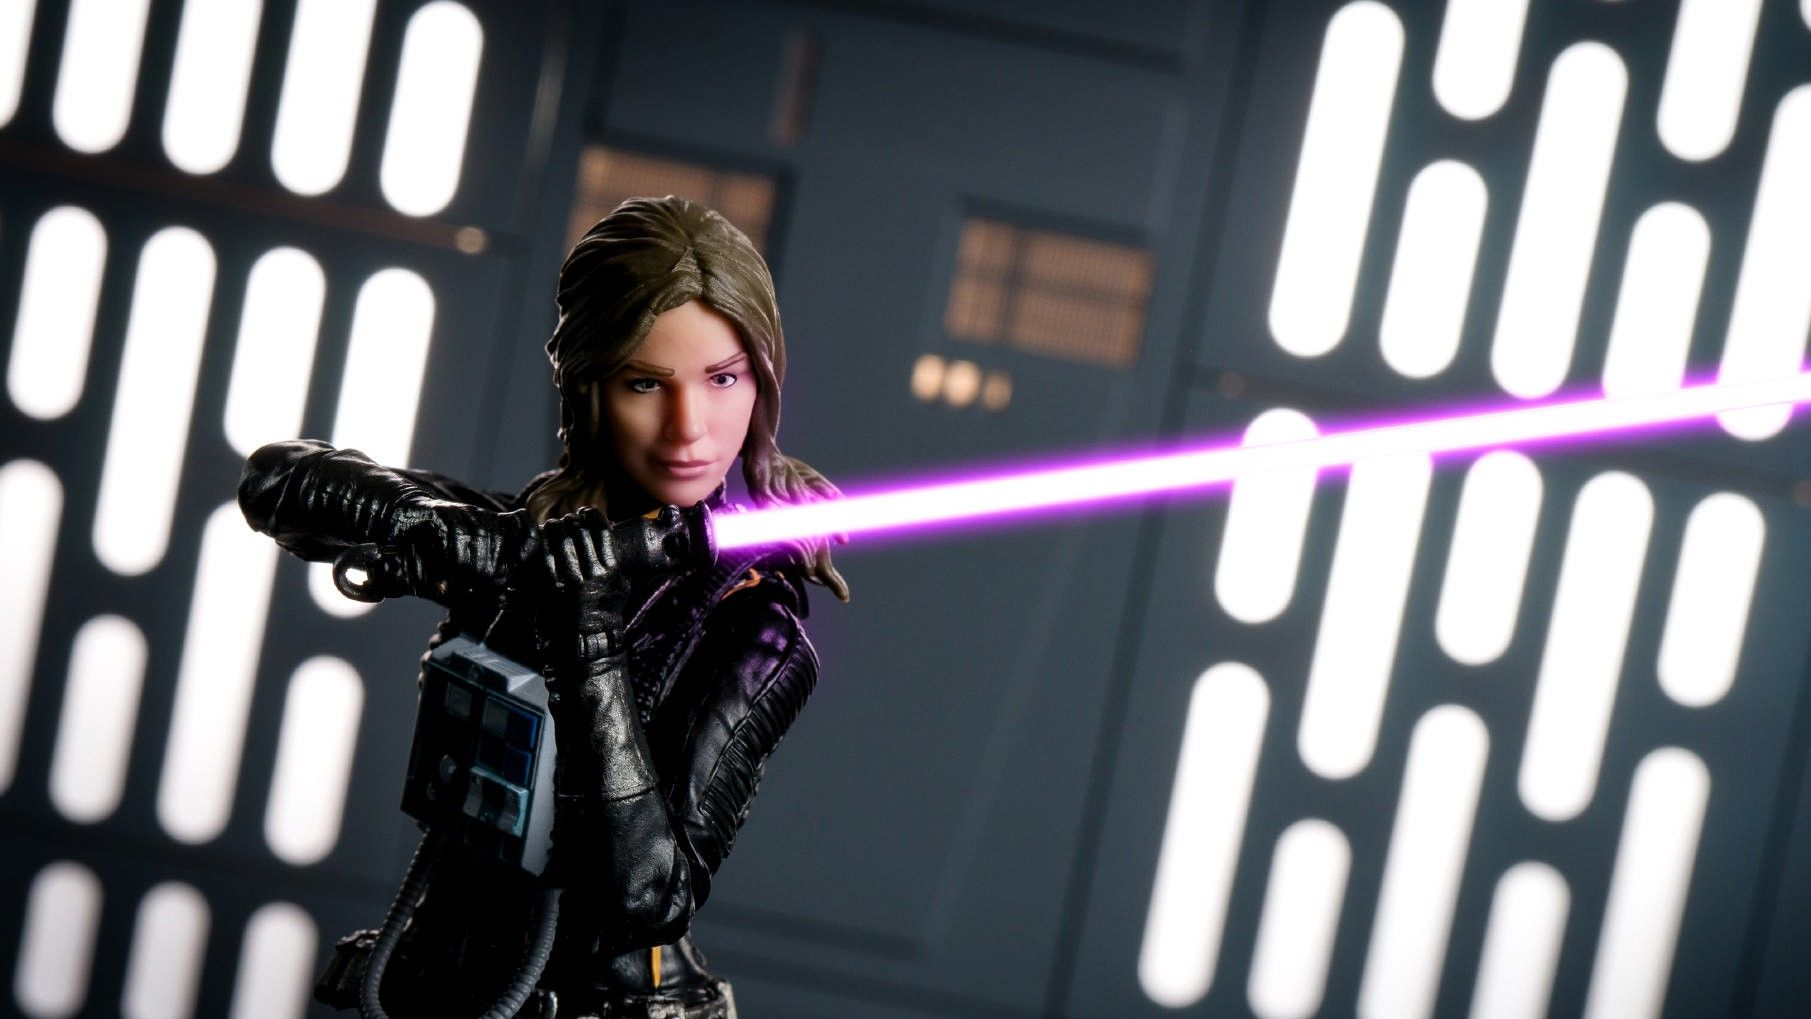lightsaber: (361, 367, 1702, 561)
